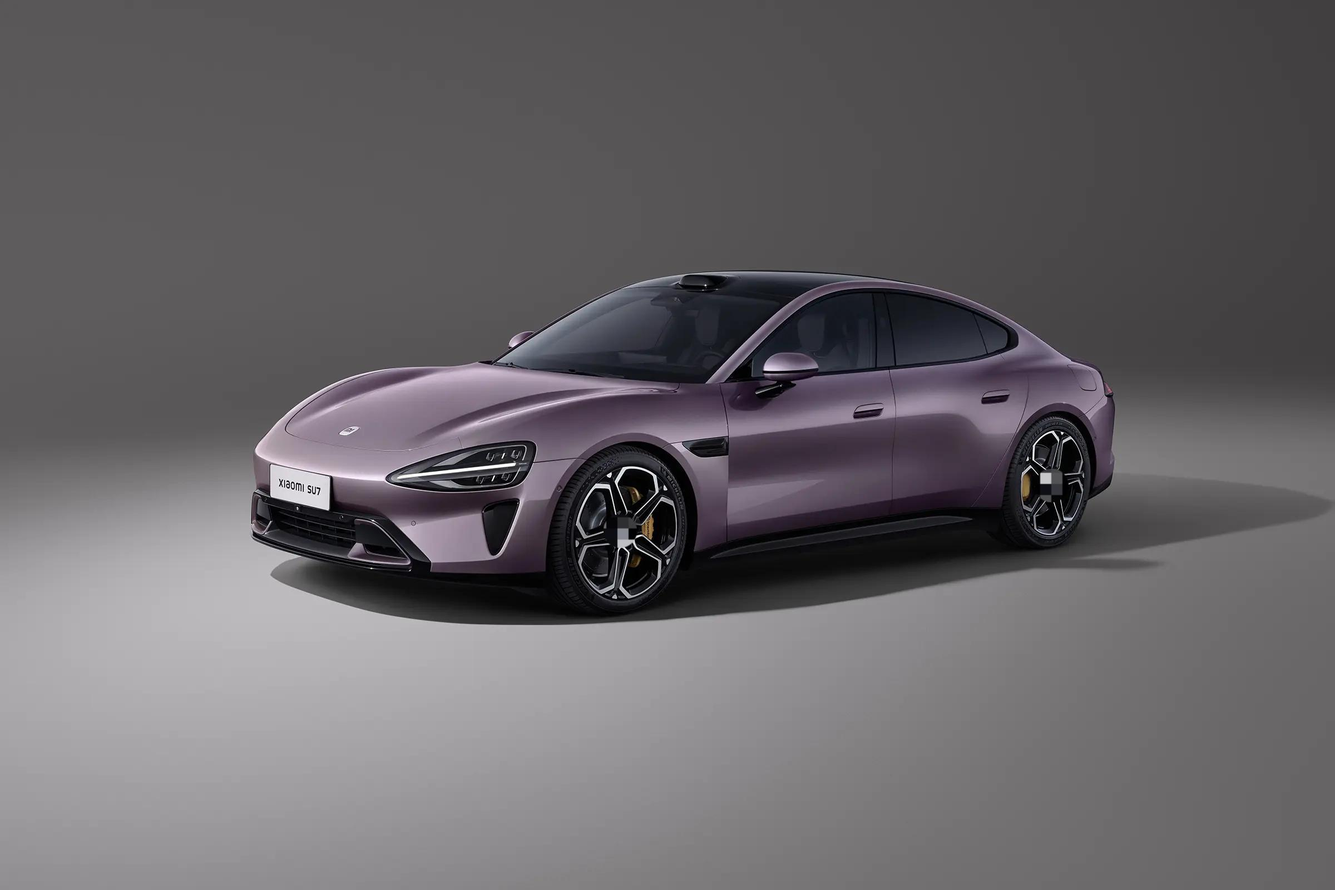XIAOMI: (339, 426, 359, 436)
